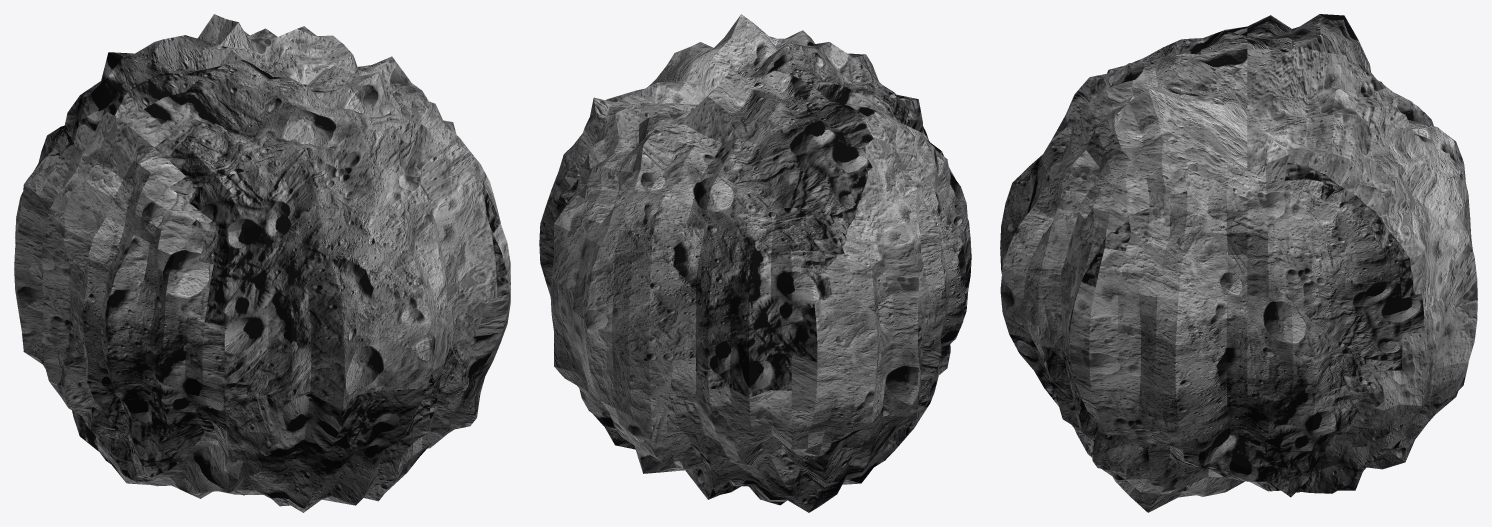
File: asteroid169.obj
3 views of the same model, side by side, from view 1: azimuth 30°, elevation 25°; view 2: azimuth 150°, elevation 25°; view 3: azimuth 270°, elevation 25° (orthographic). The views are drawn at different scales.
Parts seen in each view (by area): view 1: Cube_Cube.002; view 2: Cube_Cube.002; view 3: Cube_Cube.002.
Part boxes in pixels (bbox=[...]): Cube_Cube.002: bbox=[14, 14, 510, 512]; Cube_Cube.002: bbox=[539, 14, 971, 512]; Cube_Cube.002: bbox=[1000, 14, 1477, 512].
Bounding box in the file's own units: 1.69 × 1.82 × 1.76.
